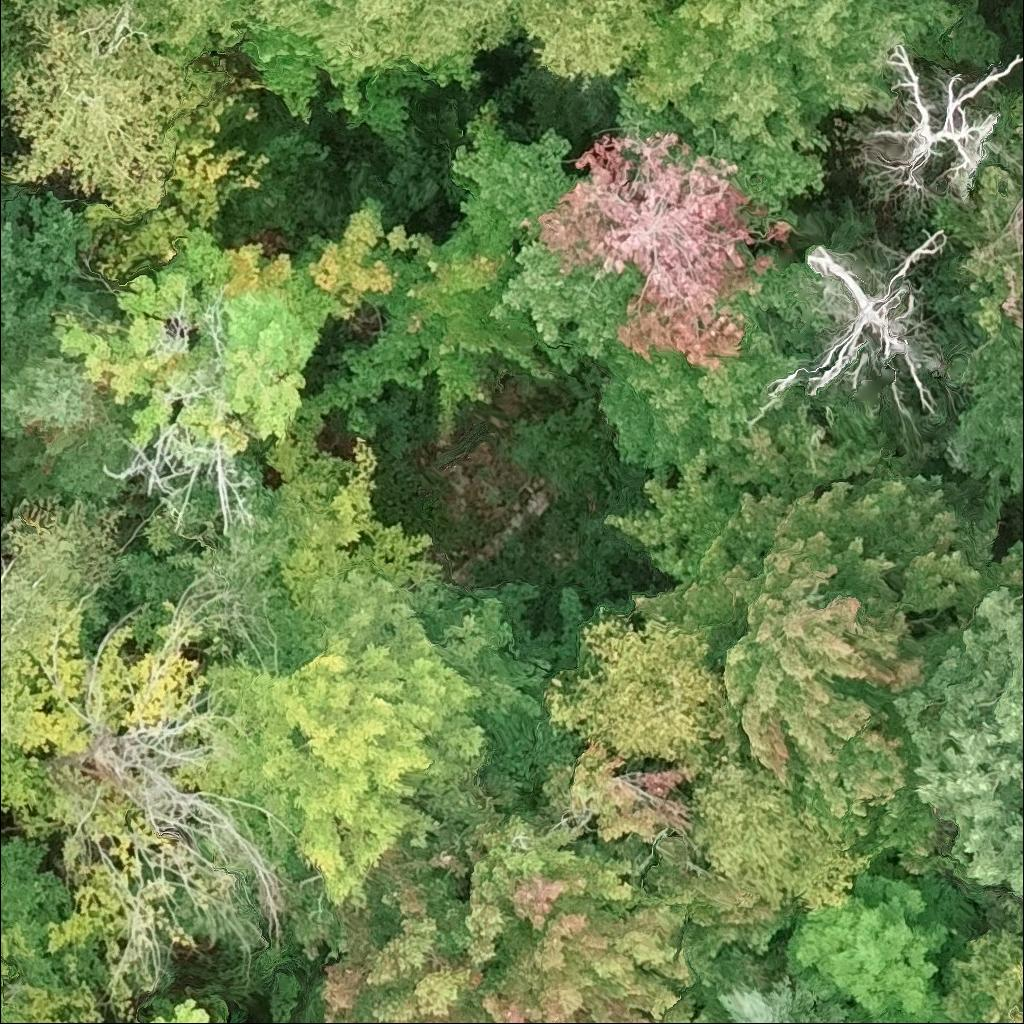crown: (602, 452, 984, 881), (305, 739, 792, 1023), (174, 558, 528, 912), (607, 0, 1010, 225), (52, 201, 395, 451), (535, 133, 794, 368), (301, 221, 558, 446), (451, 99, 639, 372), (591, 322, 888, 490), (131, 0, 662, 91), (0, 0, 207, 219), (891, 581, 1023, 907), (748, 224, 954, 424), (657, 739, 877, 913), (262, 414, 451, 615), (0, 280, 141, 513), (853, 42, 1023, 220), (544, 605, 724, 767), (783, 871, 973, 1023), (0, 510, 92, 766), (926, 164, 1023, 394), (692, 950, 860, 1023), (931, 902, 1023, 1023), (0, 918, 39, 982), (0, 1, 20, 90), (147, 998, 213, 1023), (0, 0, 98, 12), (1008, 90, 1023, 152), (0, 92, 3, 132), (0, 877, 1, 890)
